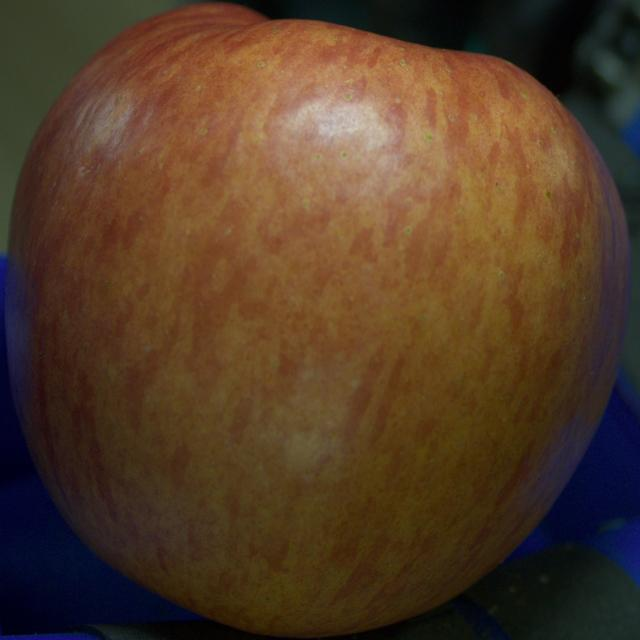apple: (6, 3, 629, 636)
